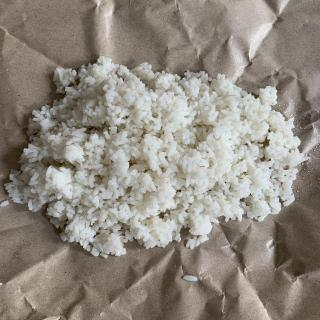Nasi: (8, 58, 310, 260)
